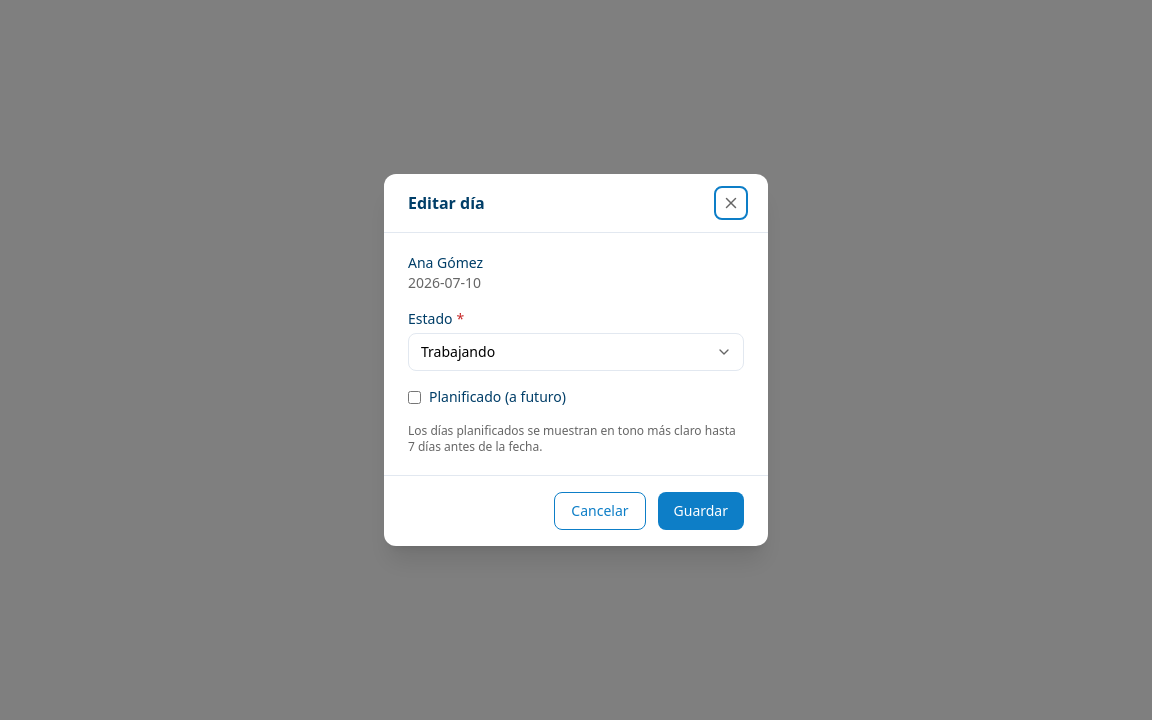
Test: CellEditModal: validación de motivo obligatorio › motivo "otros" sin texto bloquea el guardado y muestra el error
Select "Fuera del trabajo" in the dropdown labelled "Estado". click: (576, 352)
box: [408,333,744,371]
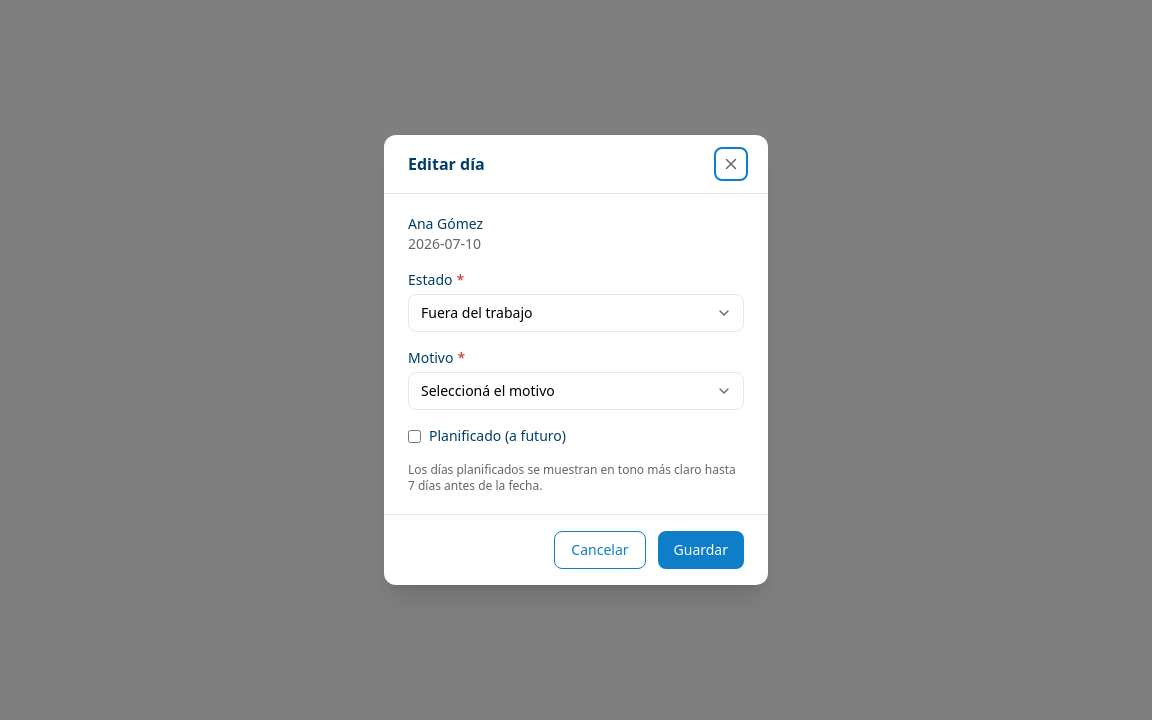
Select "Otros" in the dropdown labelled "Motivo". click: (576, 391)
box: [408,372,744,410]
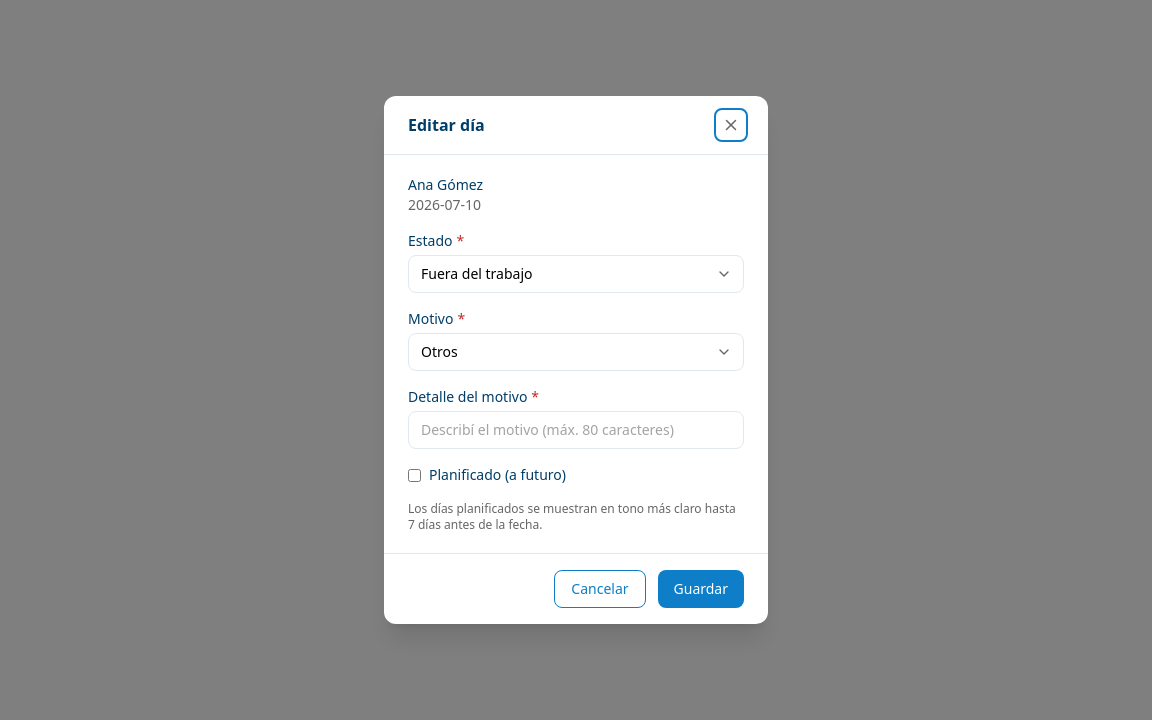
Submit the form with id "cell-edit-form", box [408,175,744,533]
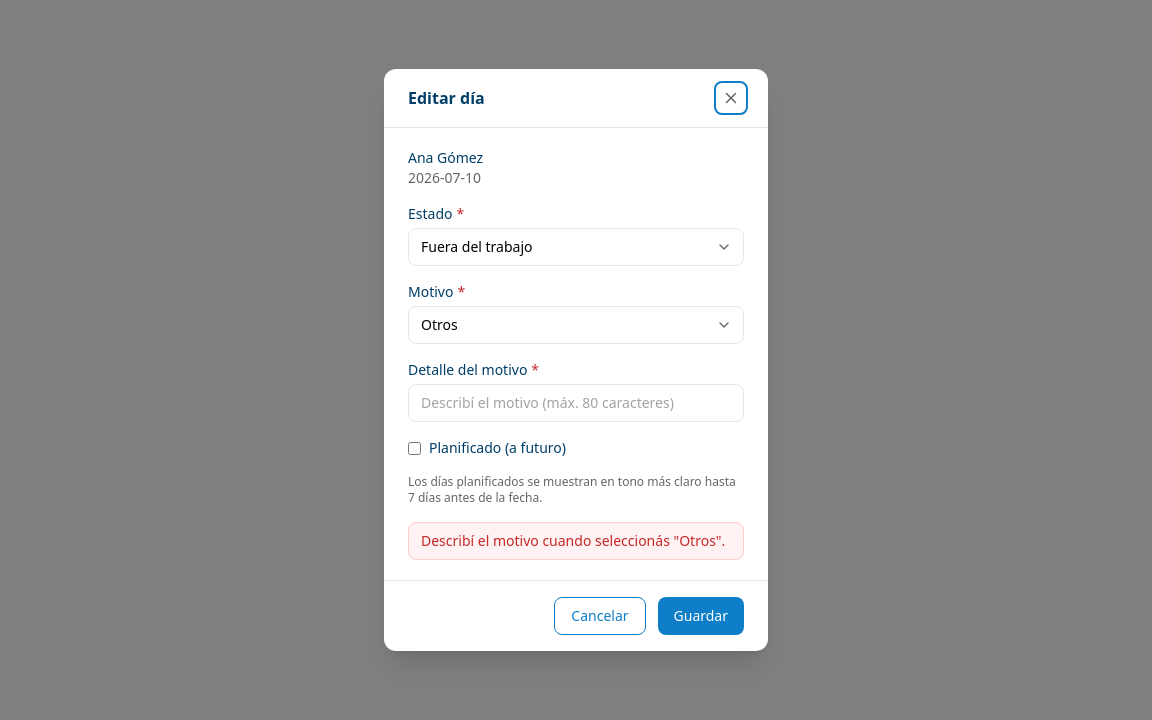
Expected: the text "Describí el motivo cuando seleccionás \"Otros\"." is shown, [408,522,744,560]
